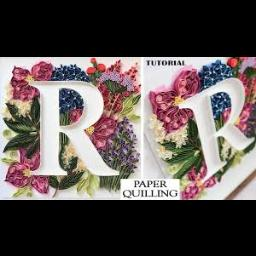r: (26, 76, 122, 178), (174, 74, 256, 178)
